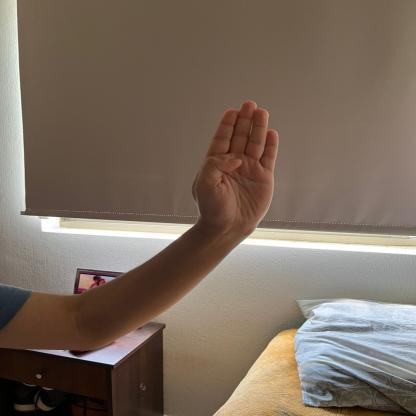B: (190, 95, 285, 235)
